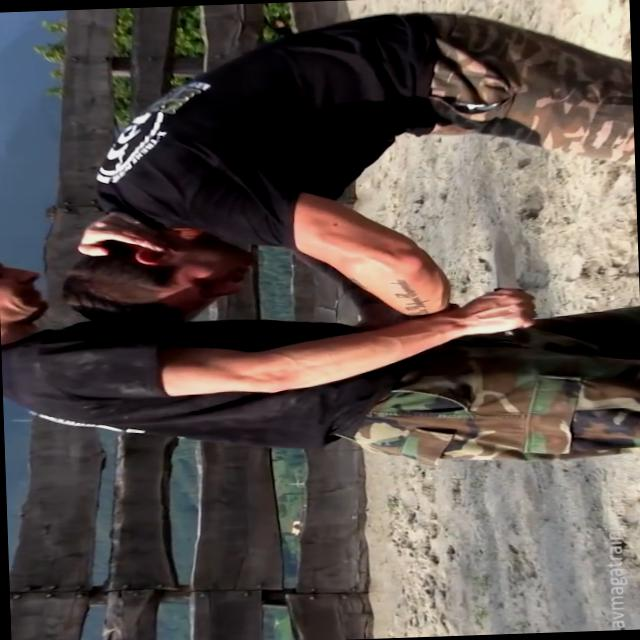knife: (474, 222, 540, 342)
